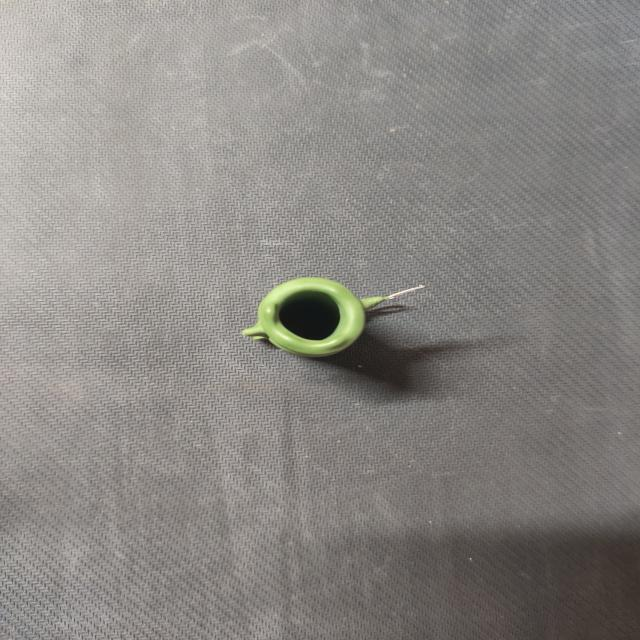resistor: (229, 263, 444, 371)
